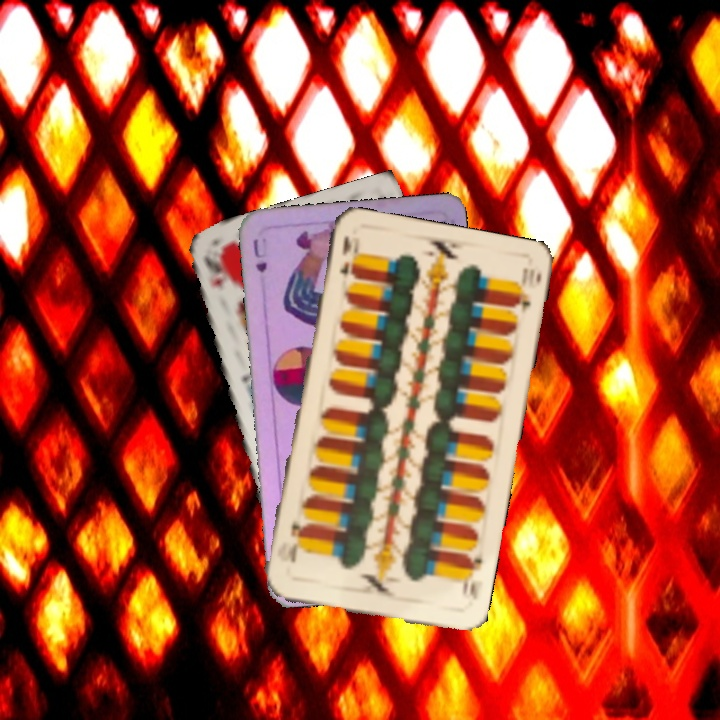E10: (458, 550, 485, 603), (336, 232, 359, 281)
HK: (199, 251, 226, 293)
SU: (249, 234, 271, 275)
